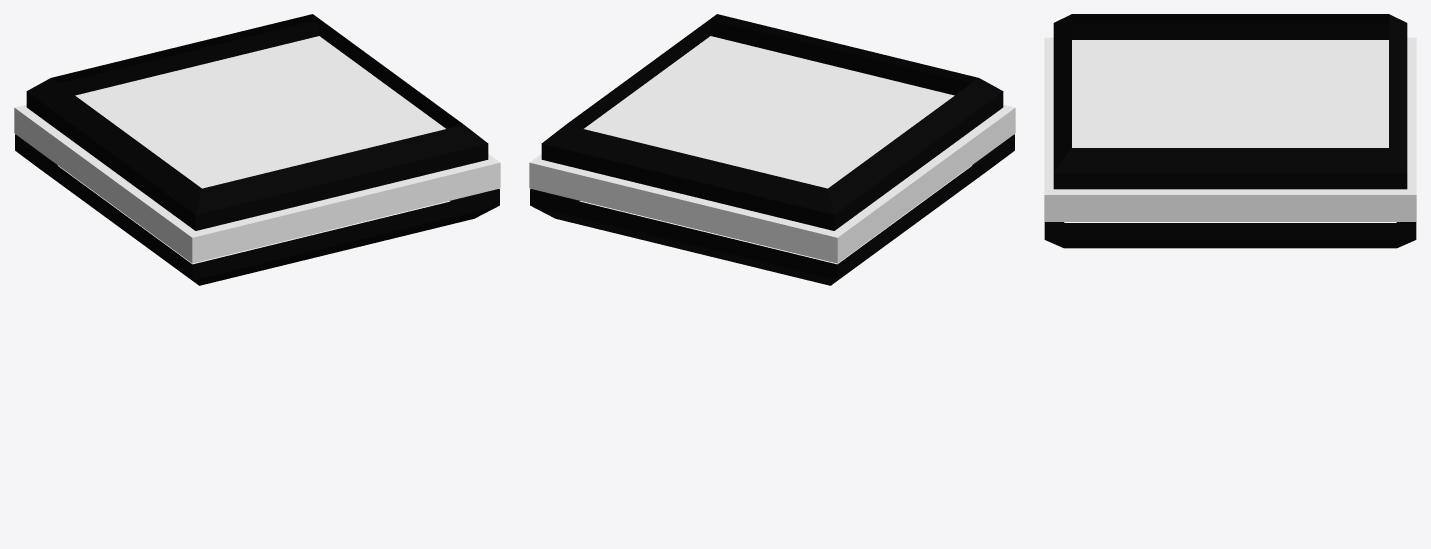
Rendered from Tile.fbx.
The picture shows the model from 3 angles, left to right: view 1: azimuth 30°, elevation 25°; view 2: azimuth 150°, elevation 25°; view 3: azimuth 270°, elevation 25°; orthographic projection. The views are drawn at different scales.
Parts seen in each view (by area): view 1: Tile; view 2: Tile; view 3: Tile.
Boxes of the visible parts, x1,y1,x2,y2 form: Tile: [14, 14, 500, 285]; Tile: [529, 14, 1015, 285]; Tile: [1044, 14, 1416, 248].
Size of the model in its own units: 100 by 134 by 100.
